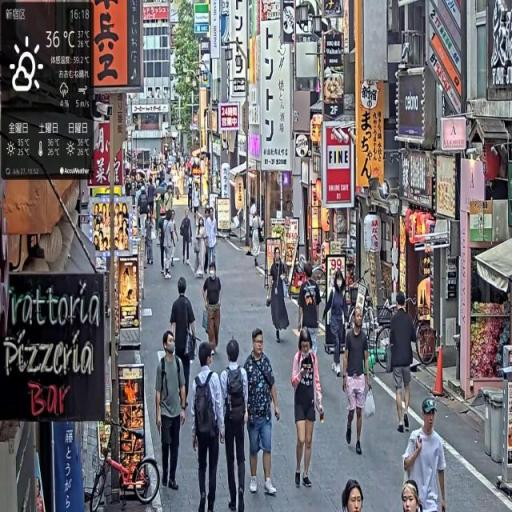person: (242, 328, 283, 499), (190, 342, 227, 512), (290, 330, 327, 491), (154, 328, 188, 497), (219, 337, 250, 512), (402, 395, 448, 512), (388, 291, 420, 437), (342, 306, 371, 455), (170, 276, 199, 413), (266, 245, 292, 347), (325, 271, 348, 378), (296, 264, 323, 354), (202, 260, 224, 360), (164, 209, 179, 280), (204, 208, 219, 275), (180, 207, 194, 268), (341, 478, 366, 512)
